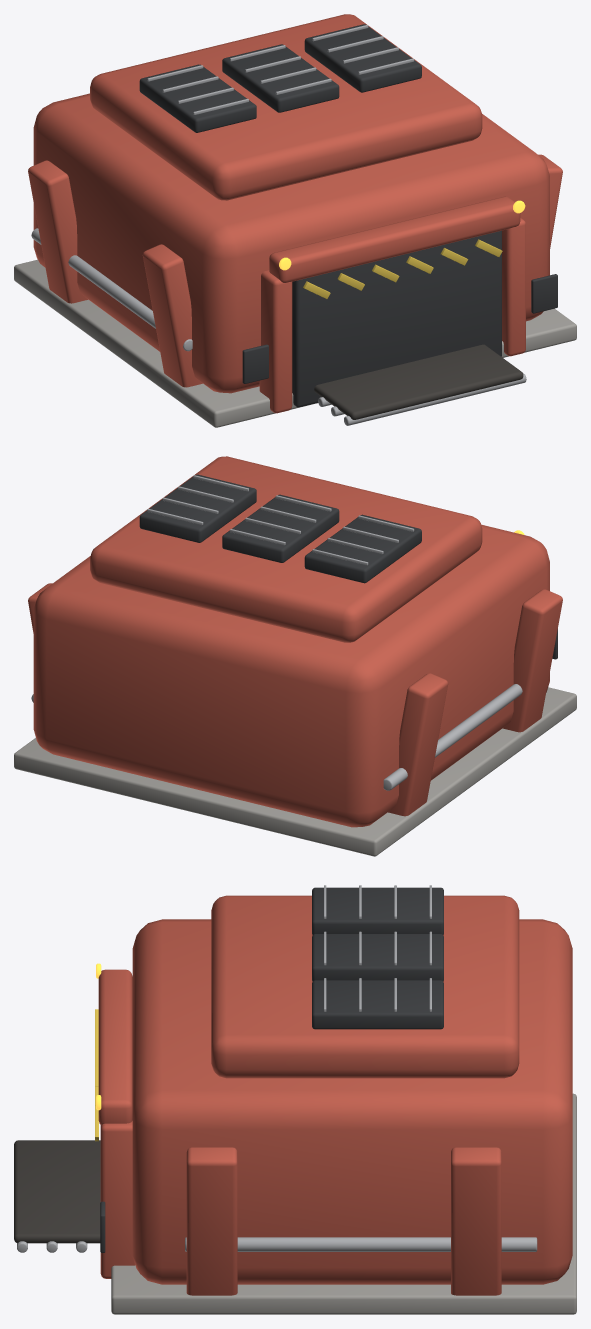
Rendered from building_vehicle.glb.
3 views of the same model, one above another, from view 1: azimuth 30°, elevation 25°; view 2: azimuth 150°, elevation 25°; view 3: azimuth 270°, elevation 25° (orthographic). The views are drawn at different scales.
Visible parts, largest first — view 1: Cube.001, Cube.002, Cube.022, Cube, Cube.023, Belt, Cube.020, Cube.021, Cube.008, Cube.013, Cube.003, Cube.026 (+6 smaller); view 2: Cube.001, Cube.002, Cube, Cube.020, Cube.021, Cube.003, Cube.008, Cube.013, Cylinder.001; view 3: Cube.001, Cube.002, Cube, Belt, Cube.018, Cube.019, Cube.013, Cube.008, Cube.003, Cube.023, Cube.024, Cylinder.
Boxes of the visible parts, <box> form: Cube.001: <box>33,93,549,393</box>; Cube.002: <box>90,14,482,200</box>; Cube.022: <box>292,230,501,407</box>; Cube: <box>14,259,576,427</box>; Cube.023: <box>269,196,520,282</box>; Belt: <box>314,344,523,419</box>; Cube.020: <box>142,244,202,387</box>; Cube.021: <box>28,160,87,303</box>; Cube.008: <box>222,44,339,112</box>; Cube.013: <box>304,24,421,92</box>; Cube.003: <box>139,64,256,132</box>; Cube.026: <box>259,270,292,413</box>; Cube.001: <box>33,524,549,827</box>; Cube.002: <box>90,456,482,642</box>; Cube: <box>14,687,576,856</box>; Cube.020: <box>502,589,562,732</box>; Cube.021: <box>388,673,448,816</box>; Cube.003: <box>304,514,421,583</box>; Cube.008: <box>222,494,339,562</box>; Cube.013: <box>139,474,256,542</box>; Cylinder.001: <box>383,684,522,790</box>; Cube.001: <box>132,919,572,1284</box>; Cube.002: <box>211,895,519,1078</box>; Cube: <box>111,1093,576,1314</box>; Belt: <box>14,1140,100,1243</box>; Cube.018: <box>186,1147,237,1295</box>; Cube.019: <box>451,1147,501,1295</box>; Cube.013: <box>312,980,443,1029</box>; Cube.008: <box>312,934,443,981</box>; Cube.003: <box>312,887,443,935</box>; Cube.023: <box>98,969,132,1124</box>; Cube.024: <box>100,1121,135,1278</box>; Cylinder: <box>185,1237,537,1251</box>.
Size of the model in its own units: 6.3 by 3.47 by 6.65.
